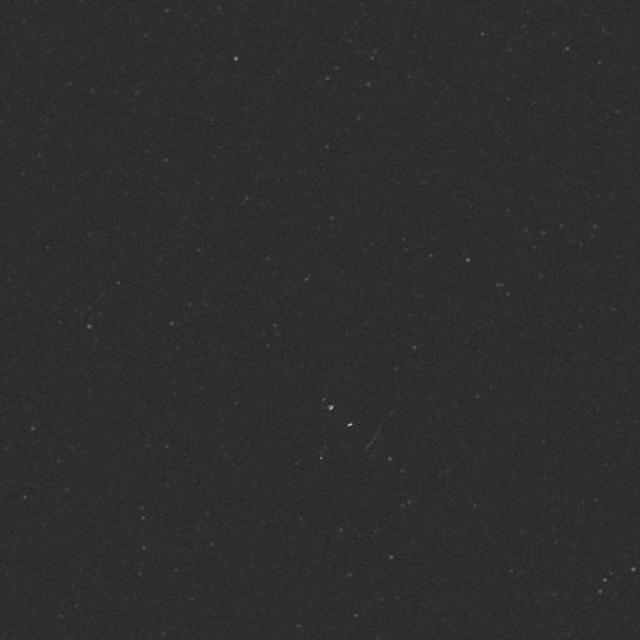proba_3_ocs: (299, 390, 447, 548)
